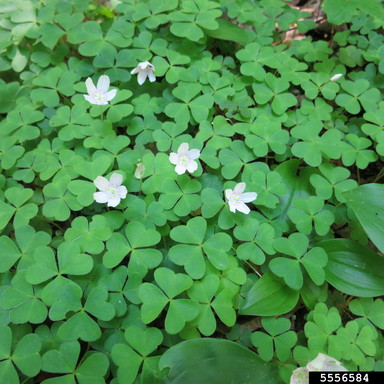oxalis: (16, 27, 360, 357)
